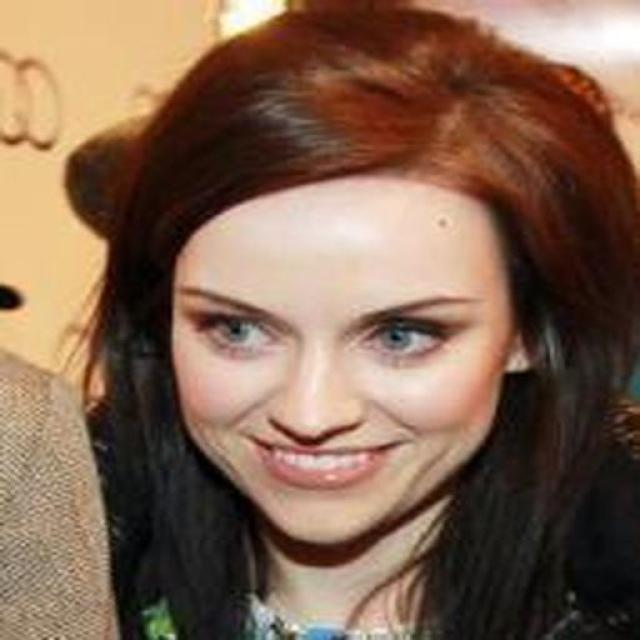bareface: (165, 43, 564, 547)
